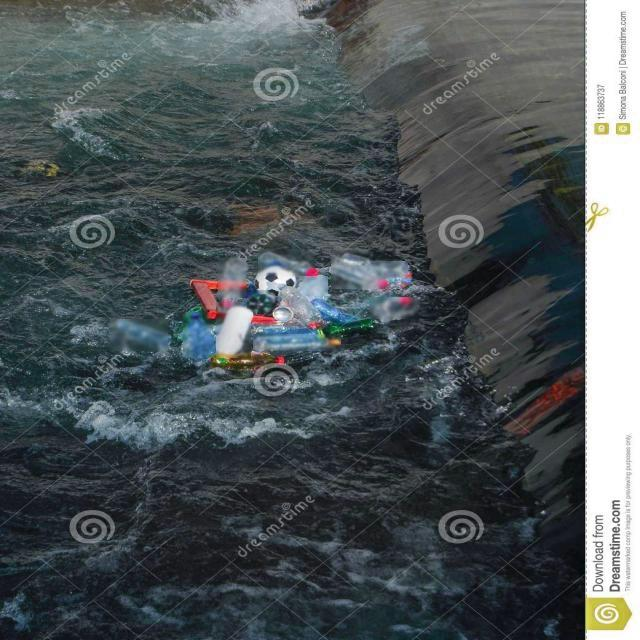Plastic: (210, 301, 263, 369), (257, 325, 340, 361), (250, 238, 321, 278), (330, 255, 401, 291), (311, 299, 376, 338), (212, 247, 246, 312), (288, 271, 330, 315), (376, 289, 417, 329), (375, 256, 412, 293)
Trash: (183, 276, 249, 324), (250, 265, 298, 305)
